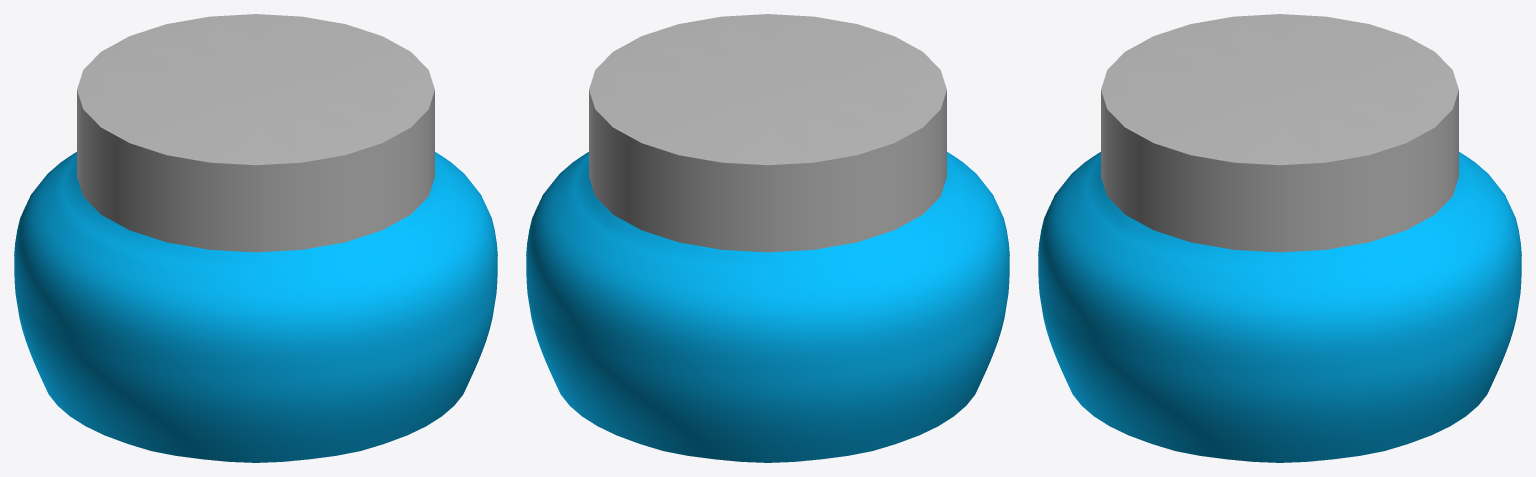
The model's file is cream11.glb.
3 renders of one model, left to right at view 1: azimuth 30°, elevation 25°; view 2: azimuth 150°, elevation 25°; view 3: azimuth 270°, elevation 25°, orthographic.
Bounding box in the file's own units: 0.4068 × 0.2711 × 0.4068.
